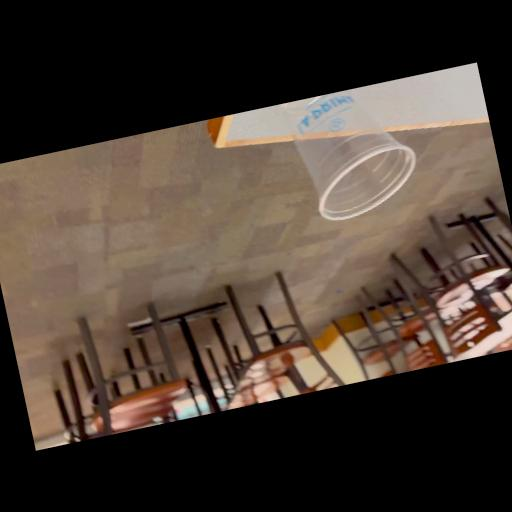lp_plastic_cup: (270, 78, 428, 243)
